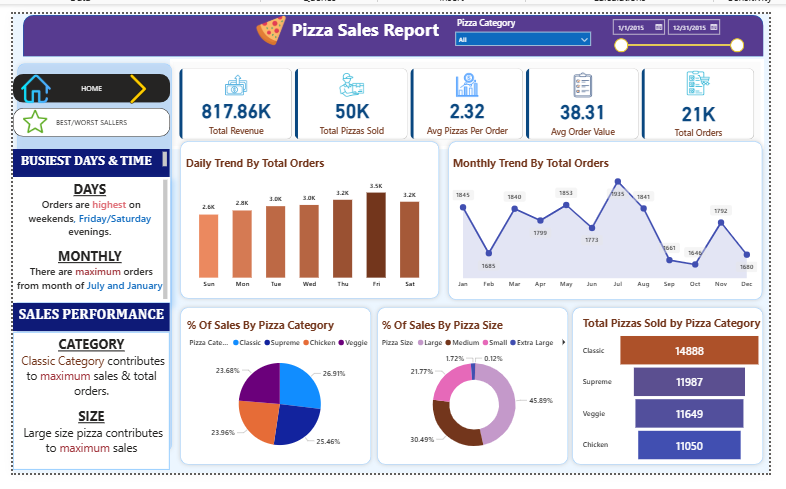

The page's visual inventory and layout, read from the dashboard file:
{"tool":"powerbi","page":{"name":"HOME","canvas":[1400,850],"ordinal":0},"visuals":[{"type":"cardVisual","fields":{"Data":["measures_table.Total Revenue","measures_table.Total Pizzas Sold","measures_table.Avg Pizzas Per Order","measures_table.Avg Order Value","measures_table.Total Orders"]},"box":[290.5,83.3,1100,166.7],"z":0},{"type":"shape","box":[19,2.4,1371.4,77],"z":1000},{"type":"image","box":[407.1,2.4,140.5,57.1],"z":2000},{"type":"textbox","box":[511.9,0,297.6,78.6],"z":3000},{"type":"shape","box":[302.4,228.6,495.2,307.1],"z":4000},{"type":"columnChart","title":"Daily Trend By Total Orders","fields":{"Y":["measures_table.Total Orders"],"Category":["Pizza_Sales.Day"]},"box":[314.3,261.9,469,257.1],"z":5000},{"type":"shape","box":[797.6,228.6,597.6,309.5],"z":6000},{"type":"areaChart","title":"Monthly Trend By Total Orders ","fields":{"Category":["Pizza_Sales.Month"],"Y":["measures_table.Total Orders"]},"box":[809.5,261.9,573.8,257.1],"z":7000},{"type":"shape","box":[302.4,535.7,369,307.1],"z":8000},{"type":"shape","box":[666.7,535.7,369,307.1],"z":9000},{"type":"shape","box":[1028.6,535.7,369,307.1],"z":10000},{"type":"pieChart","title":"% Of Sales By Pizza Category","fields":{"Category":["Pizza_Sales.Pizza Category"],"Y":["measures_table.Total Revenue"]},"box":[316.7,561.9,354.8,266.7],"z":11000},{"type":"donutChart","title":"% Of Sales By Pizza Size","fields":{"Y":["measures_table.Total Revenue"],"Category":["Pizza_Sales.Pizza Size"]},"box":[678.6,561.9,352.4,269],"z":12000},{"type":"funnel","fields":{"Category":["Pizza_Sales.Pizza Category"],"Y":["measures_table.Total Pizzas Sold"]},"box":[1050,557.1,340.5,278.6],"z":13000},{"type":"shape","box":[0,83.3,302.4,735.7],"z":14000},{"type":"textbox","box":[0,250,290.5,52.4],"z":15000},{"type":"textbox","box":[0,302.1,291.5,231.9],"z":16000},{"type":"textbox","box":[0,535.7,290.5,52.4],"z":17000},{"type":"textbox","box":[0,588.1,290.5,254.8],"z":18000},{"type":"slicer","fields":{"Values":["Pizza_Sales.Pizza Category"]},"box":[809.5,0,271.4,78.6],"z":19000},{"type":"slicer","fields":{"Values":["Pizza_Sales.Order Date"]},"box":[1097.6,0,264.3,78.6],"z":20000},{"type":"pageNavigator","box":[0,110.6,291.5,117],"z":21000},{"type":"image","box":[0,110.6,85.1,55.3],"z":22000},{"type":"image","box":[193.6,110.6,74.5,55.3],"z":23000},{"type":"image","box":[19.1,170.2,44.7,57.4],"z":24000}]}

Visuals, with their boxes in screenshot pixels (x1, y1, x2, y2), scaled from the page's 1400x850 canvas onto the 786x489 screenshot:
cardVisual - measures_table.Total Revenue x measures_table.Total Pizzas Sold: [163,48,781,144]
shape: [11,1,781,46]
image: [229,1,307,34]
textbox: [287,0,454,45]
shape: [170,132,448,308]
"Daily Trend By Total Orders" columnChart: [176,151,440,299]
shape: [448,132,783,310]
"Monthly Trend By Total Orders " areaChart: [454,151,777,299]
shape: [170,308,377,485]
shape: [374,308,581,485]
shape: [577,308,785,485]
"% Of Sales By Pizza Category" pieChart: [178,323,377,477]
"% Of Sales By Pizza Size" donutChart: [381,323,579,478]
funnel - Pizza_Sales.Pizza Category x measures_table.Total Pizzas Sold: [590,320,781,481]
shape: [0,48,170,471]
textbox: [0,144,163,174]
textbox: [0,174,164,307]
textbox: [0,308,163,338]
textbox: [0,338,163,485]
slicer - Pizza_Sales.Pizza Category: [454,0,607,45]
slicer - Pizza_Sales.Order Date: [616,0,765,45]
pageNavigator: [0,64,164,131]
image: [0,64,48,95]
image: [109,64,151,95]
image: [11,98,36,131]
